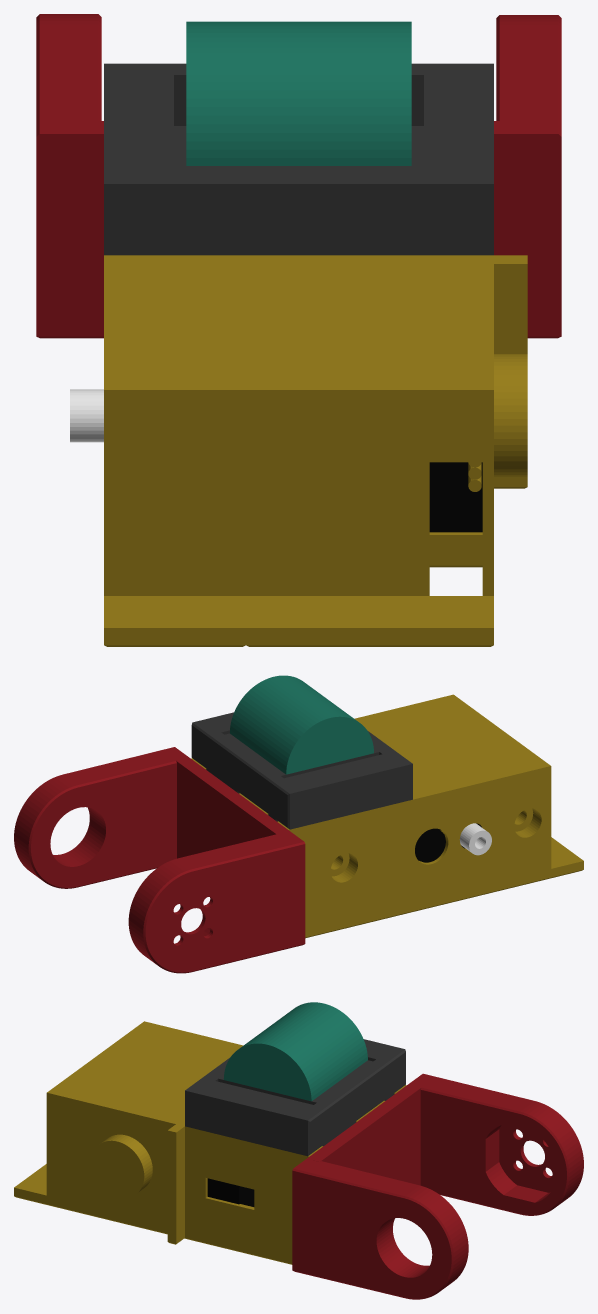
Rendered from finger_link311.dae.
3 renders of one model, top to bottom at view 1: azimuth 30°, elevation 25°; view 2: azimuth 150°, elevation 25°; view 3: azimuth 270°, elevation 25°, orthographic. The views are drawn at different scales.
Visible parts, largest first — view 1: finger_link311.001; view 2: finger_link311.001; view 3: finger_link311.001.
Boxes of the visible parts, x1=… form: finger_link311.001: x1=36, y1=14, x2=561, y2=646; finger_link311.001: x1=14, y1=675, x2=583, y2=973; finger_link311.001: x1=14, y1=1002, x2=583, y2=1299.
Size of the model in its own units: 81.74 by 101 by 38.14.
